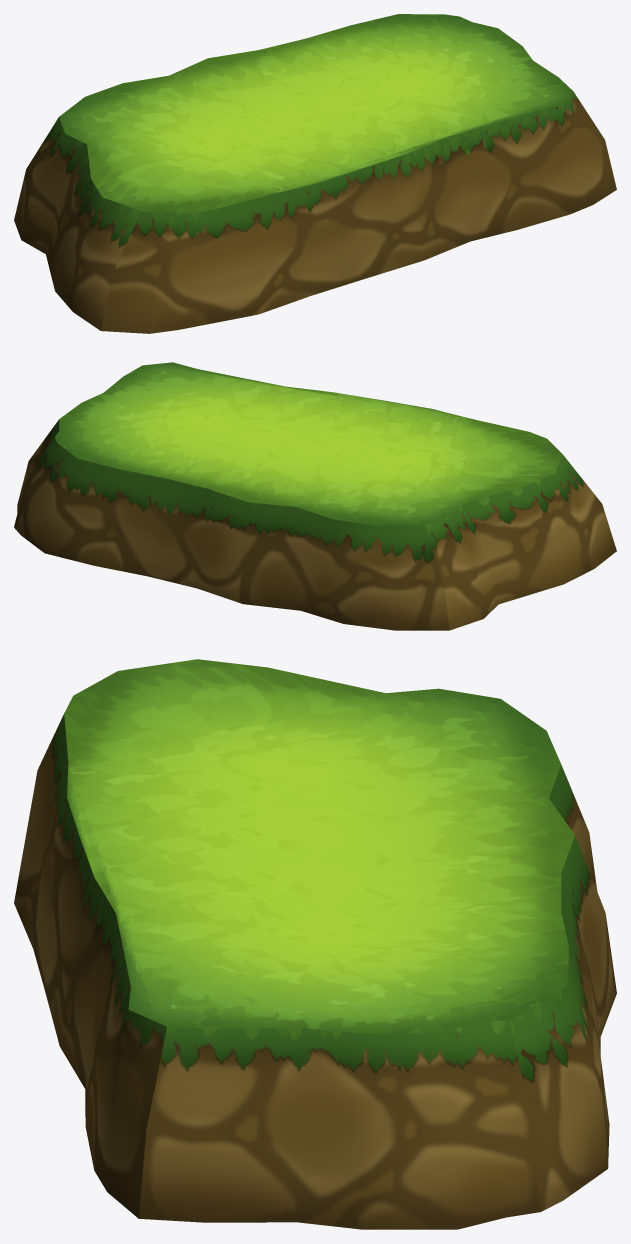
File: Ground00.FBX
3 renders of one model, top to bottom at view 1: azimuth 30°, elevation 25°; view 2: azimuth 150°, elevation 25°; view 3: azimuth 270°, elevation 25°, orthographic. The views are drawn at different scales.
Visible parts, largest first — view 1: Box087; view 2: Box087; view 3: Box087.
Part boxes in pixels (left/top/right/bottom): Box087: left=14, top=14, right=616, bottom=333; Box087: left=14, top=362, right=616, bottom=630; Box087: left=14, top=659, right=616, bottom=1229.
Size of the model in its own units: 367 by 64.57 by 215.
Materials: 1 (1 with a texture image).
